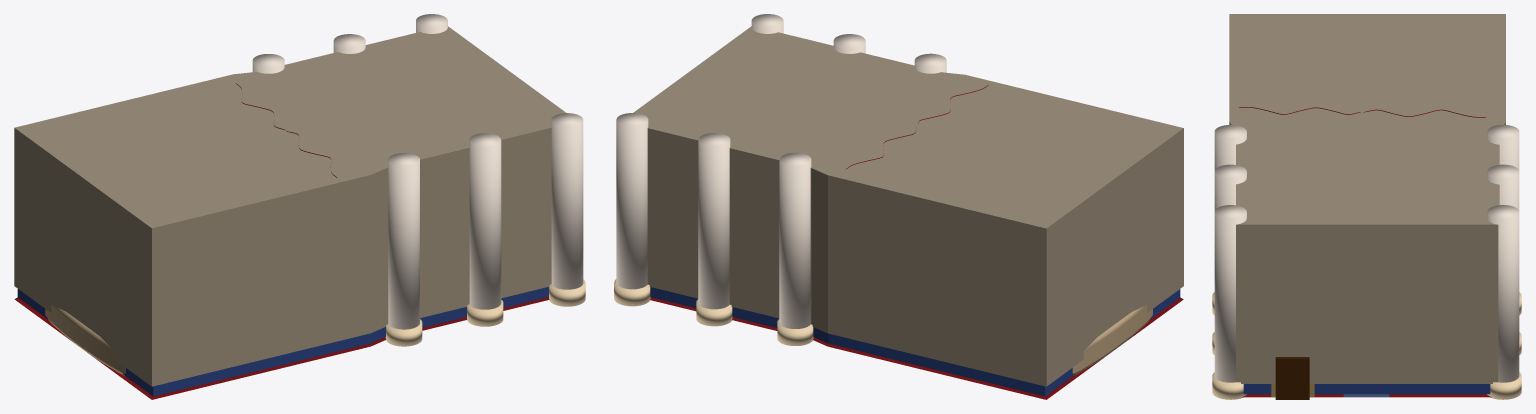
The model's file is Teatro.fbx.
The picture shows the model from 3 angles, left to right: view 1: azimuth 30°, elevation 25°; view 2: azimuth 150°, elevation 25°; view 3: azimuth 270°, elevation 25°; orthographic projection.
Parts seen in each view (by area): view 1: Plane_1, Cylinder.072_389, Cylinder.074_391, Cylinder.076_393, Cube.315_386, Cylinder.075_392, Cylinder.073_390, Cylinder.077_394, Cylinder.080_397, Cylinder.082_399, Cylinder.078_395; view 2: Plane_1, Cylinder.082_399, Cylinder.078_395, Cylinder.080_397, Cube.315_386, Cylinder.079_396, Cylinder.081_398, Cylinder.083_400, Cylinder.076_393, Cylinder.072_389, Cylinder.074_391; view 3: Plane_1, Cylinder.072_389, Cylinder.078_395, Cube.316_401, Cylinder.074_391, Cylinder.076_393, Cylinder.080_397, Cylinder.082_399, Cylinder.073_390, Cylinder.079_396.
Part boxes in pixels (x1,y1,x2,y2): Plane_1: (14, 26, 565, 399); Cylinder.072_389: (551, 113, 583, 289); Cylinder.074_391: (469, 133, 501, 309); Cylinder.076_393: (388, 153, 419, 329); Cube.315_386: (45, 305, 125, 375); Cylinder.075_392: (467, 300, 503, 326); Cylinder.073_390: (549, 279, 585, 306); Cylinder.077_394: (385, 319, 422, 346); Cylinder.080_397: (333, 34, 365, 53); Cylinder.082_399: (252, 54, 284, 73); Cylinder.078_395: (416, 14, 447, 33); Plane_1: (633, 26, 1183, 399); Cylinder.082_399: (779, 152, 811, 328); Cylinder.078_395: (616, 113, 648, 289); Cylinder.080_397: (698, 133, 730, 309); Cube.315_386: (1072, 305, 1152, 375); Cylinder.079_396: (614, 279, 650, 306); Cylinder.081_398: (696, 299, 732, 326); Cylinder.083_400: (777, 319, 813, 345); Cylinder.076_393: (914, 53, 946, 73); Cylinder.072_389: (751, 14, 783, 33); Cylinder.074_391: (833, 34, 865, 53); Plane_1: (1229, 14, 1505, 397); Cylinder.072_389: (1214, 205, 1246, 382); Cylinder.078_395: (1487, 205, 1519, 382); Cube.316_401: (1275, 357, 1309, 399); Cylinder.074_391: (1214, 164, 1246, 210); Cylinder.076_393: (1214, 125, 1246, 169); Cylinder.080_397: (1487, 164, 1519, 210); Cylinder.082_399: (1487, 125, 1519, 169); Cylinder.073_390: (1212, 372, 1246, 399); Cylinder.079_396: (1487, 372, 1521, 399).
Bounding box in the file's own units: 19443 × 7733 × 11862.
